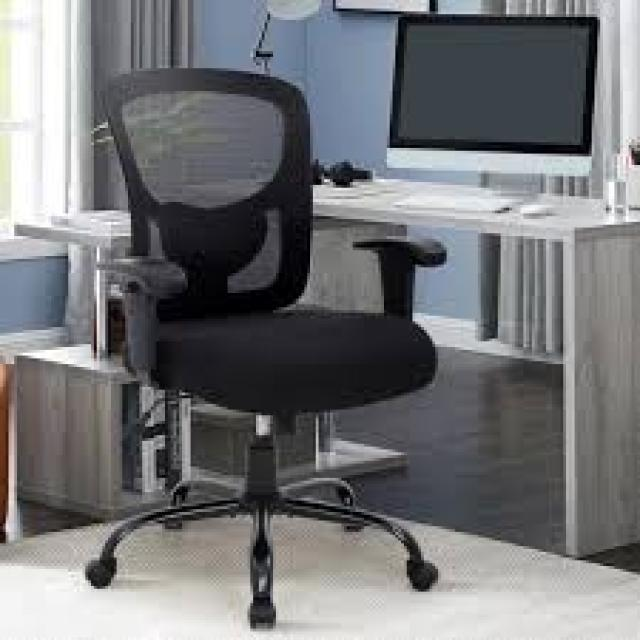chair: (90, 70, 444, 624)
